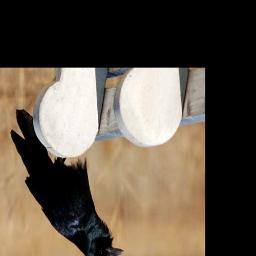Crow: (10, 107, 124, 256)
